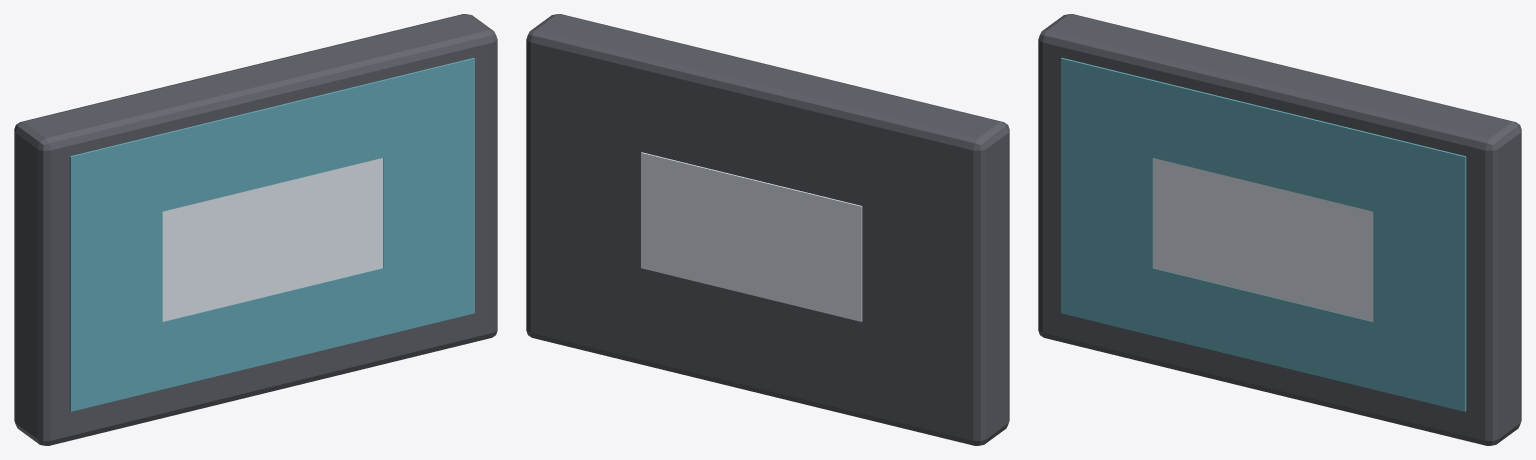
The model's file is RetroCassetteTape.fbx.
The picture shows the model from 3 angles, left to right: view 1: azimuth 30°, elevation 25°; view 2: azimuth 150°, elevation 25°; view 3: azimuth 330°, elevation 25°; orthographic projection.
Parts seen in each view (by area): view 1: Body_Shell, Label_Top, Label_Bottom, Window_Glass, Label_Left, Label_Right; view 2: Body_Shell, Window_Glass; view 3: Body_Shell, Label_Top, Label_Bottom, Window_Glass, Label_Right, Label_Left.
Boxes of the visible parts, x1,y1,x2,y2 form: Body_Shell: (14, 14, 497, 445); Label_Top: (69, 58, 474, 233); Label_Bottom: (69, 246, 474, 411); Window_Glass: (162, 158, 382, 321); Label_Left: (69, 207, 162, 344); Label_Right: (383, 131, 474, 268); Body_Shell: (526, 14, 1009, 445); Window_Glass: (641, 152, 862, 321); Body_Shell: (1038, 14, 1521, 445); Label_Top: (1061, 58, 1466, 233); Label_Bottom: (1061, 246, 1466, 411); Window_Glass: (1153, 158, 1373, 321); Label_Right: (1373, 207, 1466, 344); Label_Left: (1061, 130, 1152, 268).
Bounding box in the file's own units: 0.1 × 0.064 × 0.0127.
